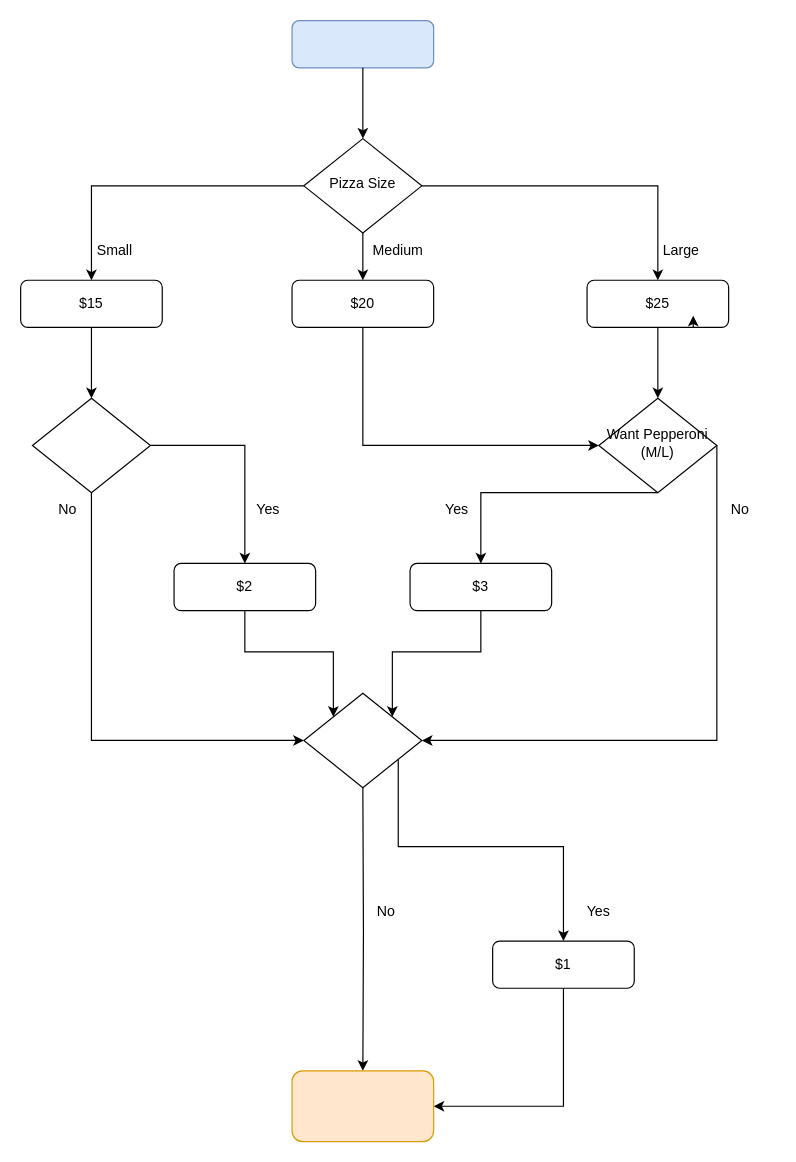
This 796x1162 diagram has some shape labels left out. Each missing label, with the centre of its shape:
"Extra Cheese" belongs at pixel 362 740.
"Start" belongs at pixel 362 43.
"Total Bills ($)" belongs at pixel 362 1106.
"Want Pepperoni (S)" belongs at pixel 90 445.
